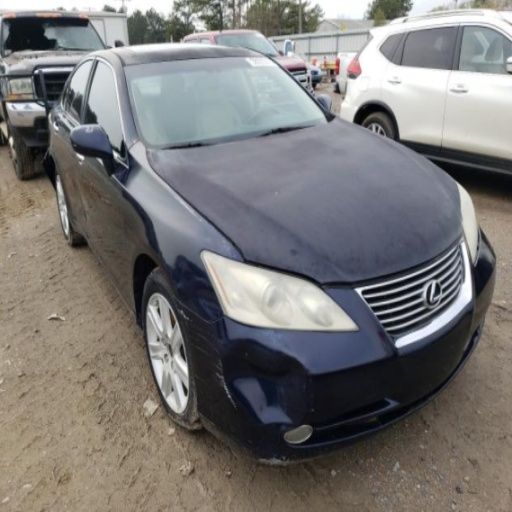dent: (218, 338, 316, 425), (193, 284, 222, 319)
scratch: (194, 330, 220, 353), (221, 379, 238, 411), (194, 325, 222, 343), (193, 342, 211, 356), (176, 308, 193, 322), (260, 456, 289, 464), (193, 373, 205, 382), (213, 363, 222, 372), (189, 334, 199, 342), (215, 372, 223, 380), (215, 359, 222, 367), (311, 407, 314, 412), (245, 353, 248, 356)
